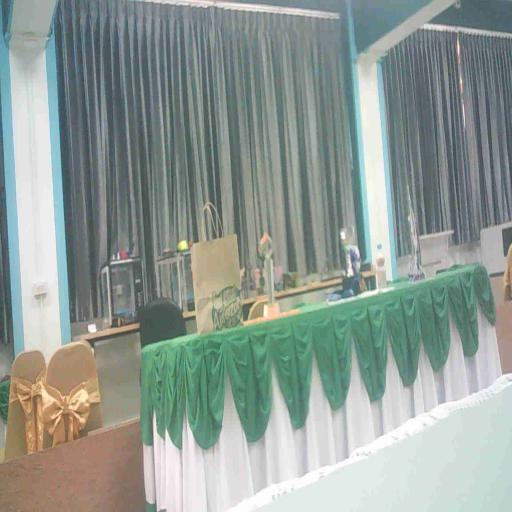bag: (187, 230, 247, 342)
